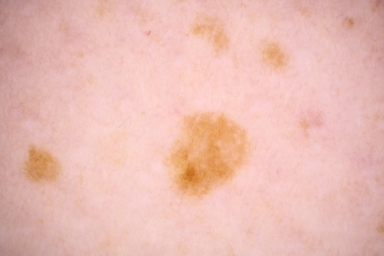melanoma: (169, 114, 252, 195), (27, 144, 61, 180), (195, 16, 227, 49), (261, 39, 285, 63)
